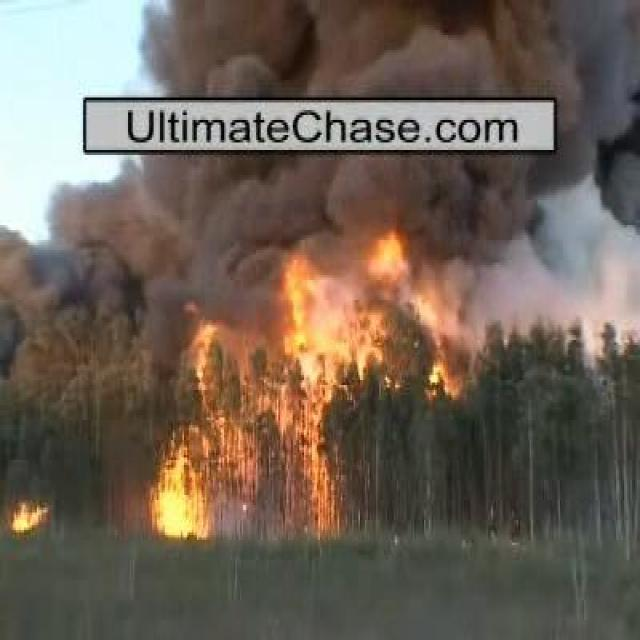fire: (152, 471, 186, 534)
smoke: (67, 156, 536, 266), (163, 7, 526, 93)
